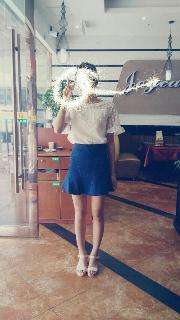short sleeve top: (51, 98, 125, 144)
skirt: (61, 142, 114, 196)
